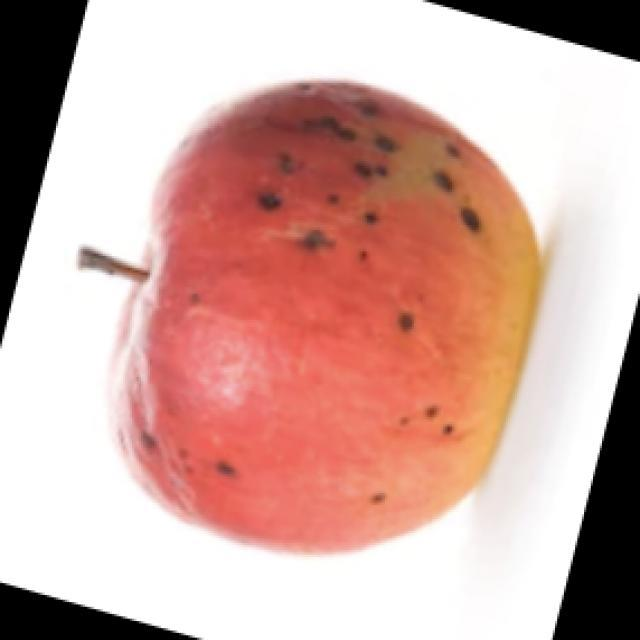Rotten: (97, 72, 535, 558)
